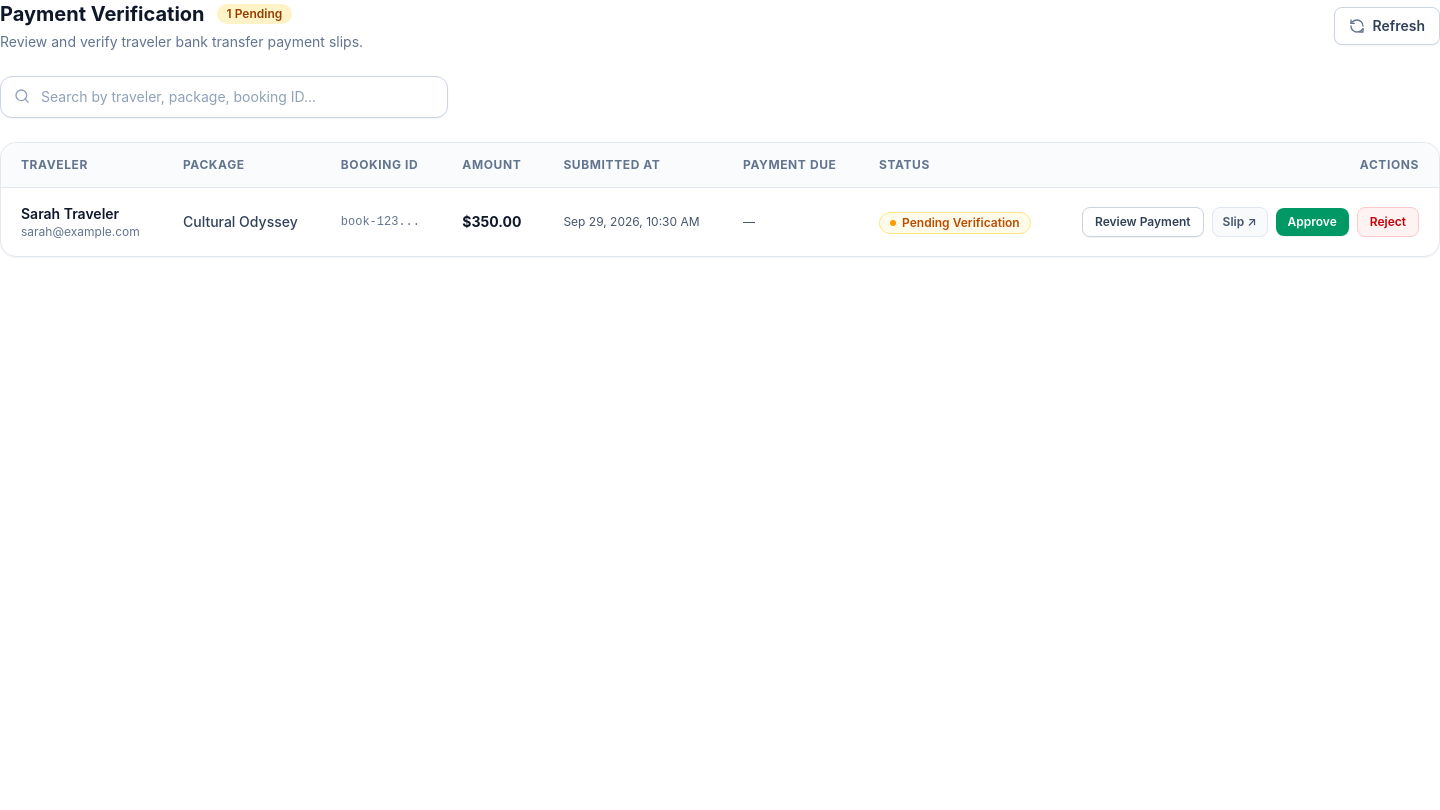
Test: OpsPaymentsPage › removes rejected item and shows success banner
The image size is (1440, 810).
Check: the text "Sarah Traveler" is shown, box x1=21 y1=205 x2=119 y2=222
Click the button "Reject" at (1388, 222), box x1=1357 y1=207 x2=1419 y2=237
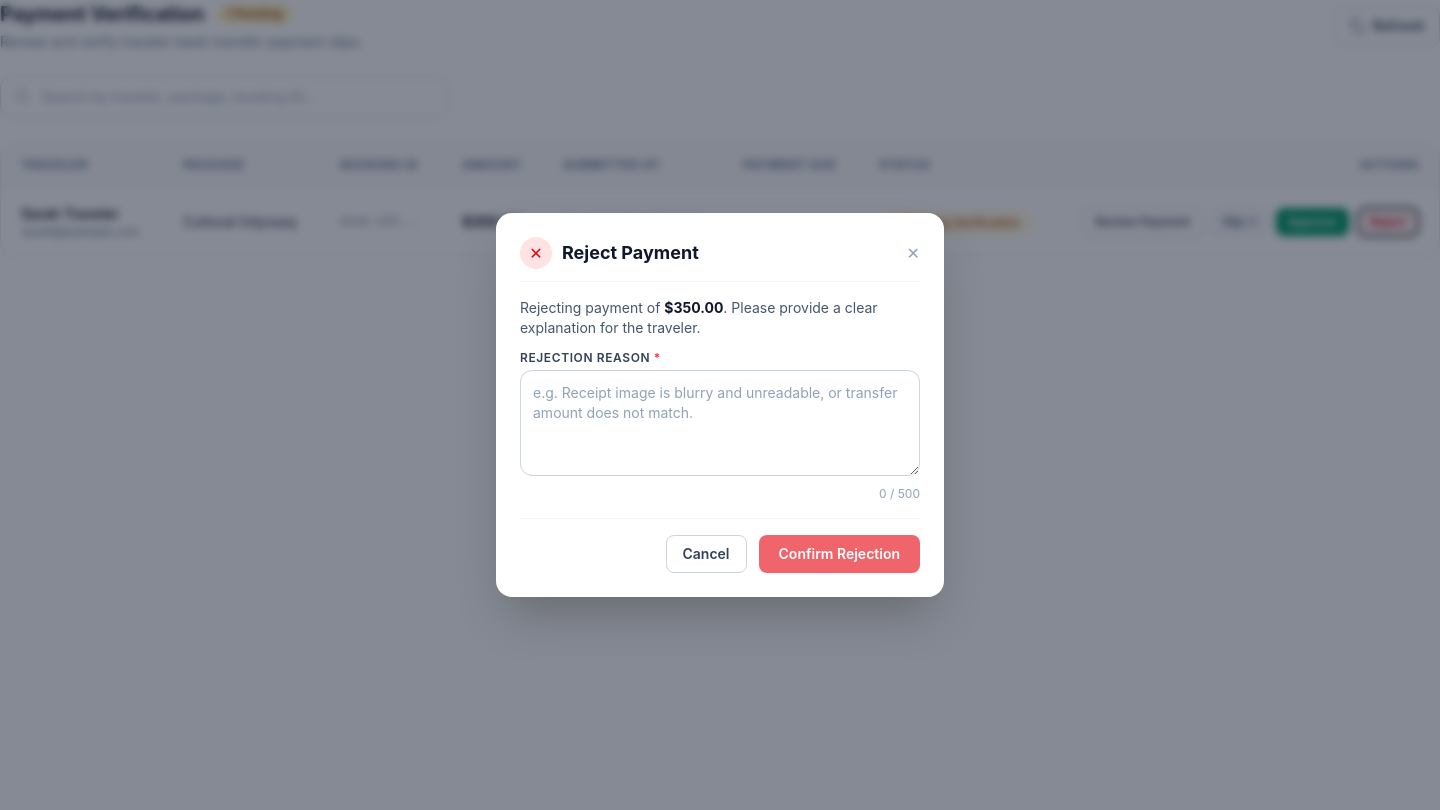
Type "Invalid receipt details." into the text box labelled "Rejection Reason *" at (720, 423), box x1=520 y1=370 x2=920 y2=476
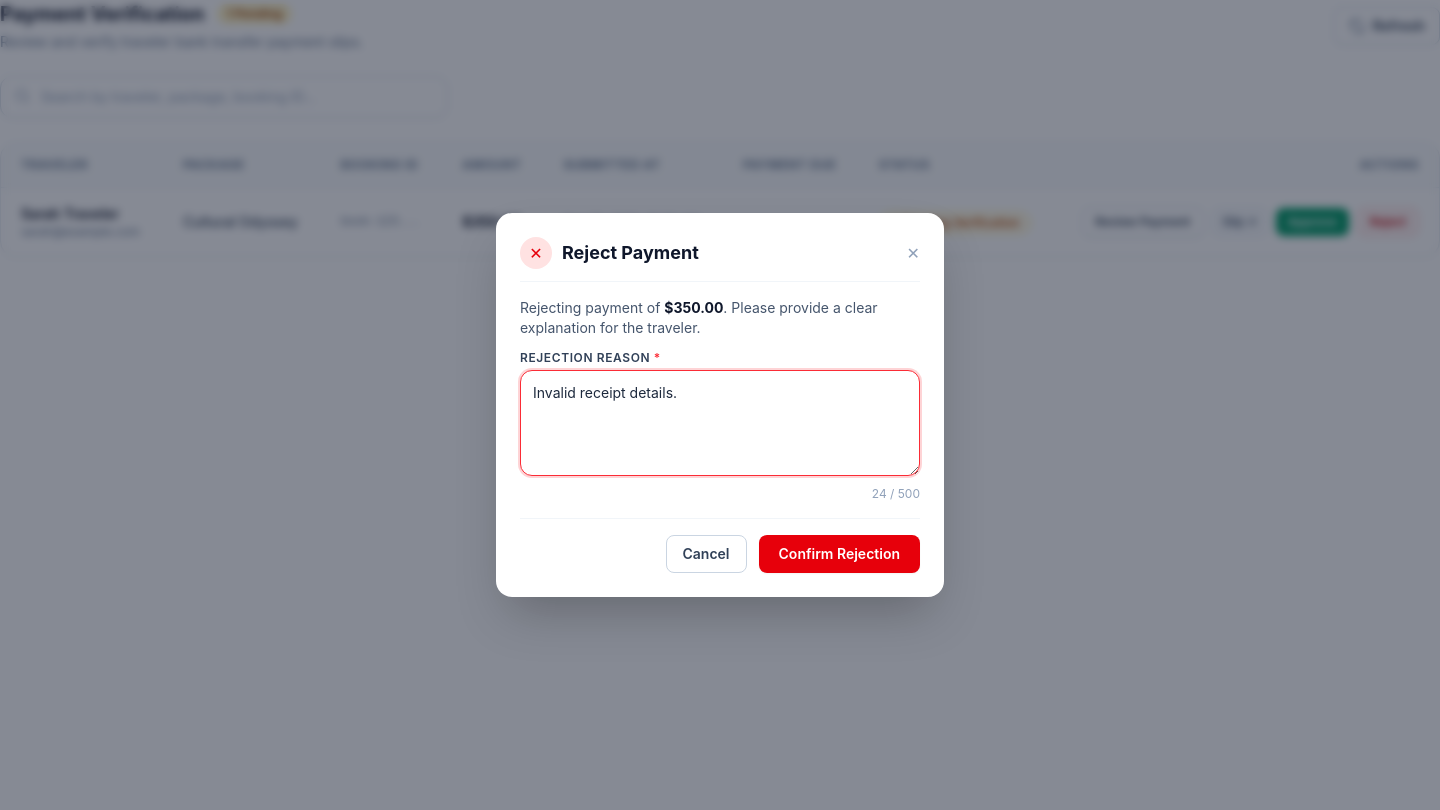
Click the button "Confirm Rejection" at (839, 554), box x1=758 y1=535 x2=920 y2=573
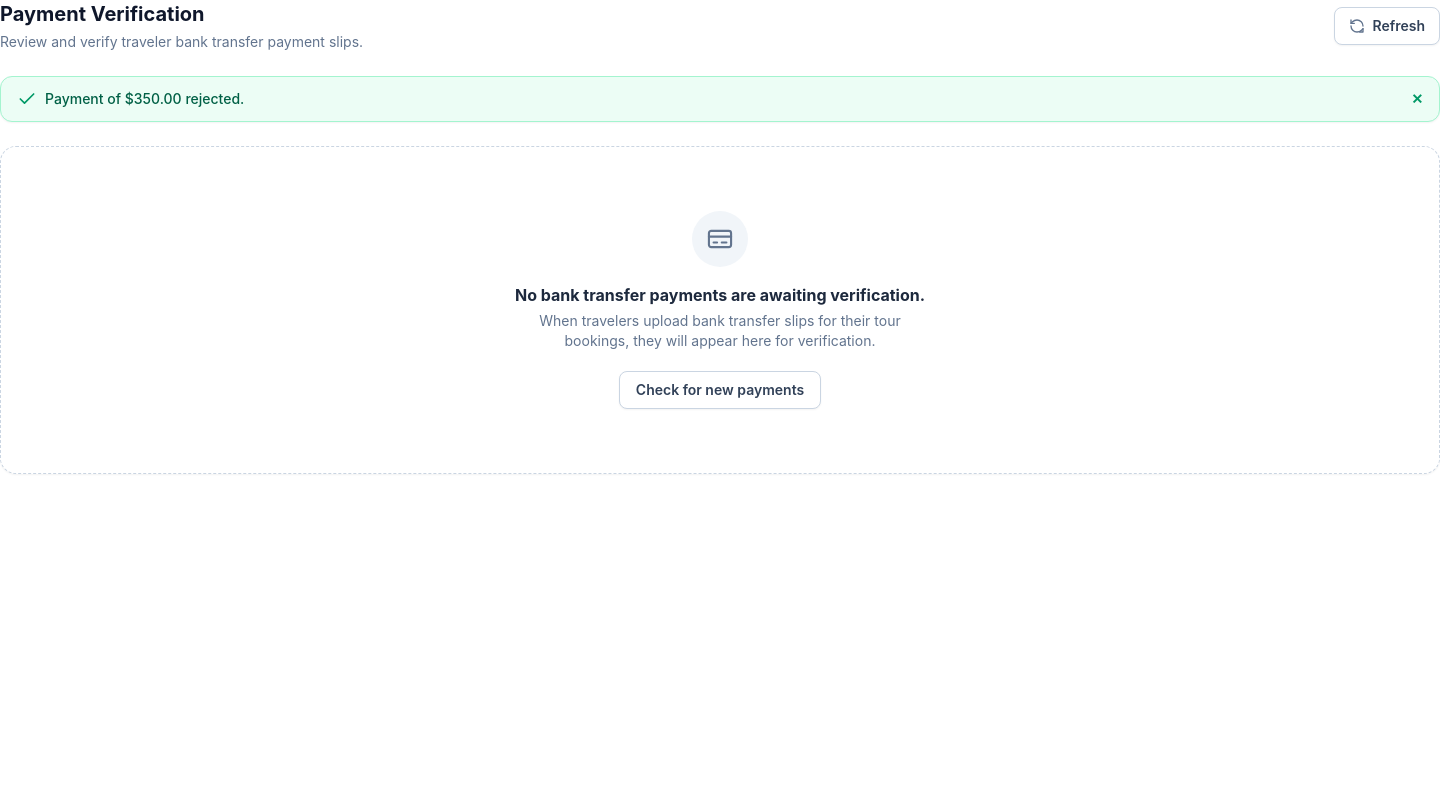
Check: the text "Sarah Traveler" is gone
Check: the text "Payment of $350.00 rejected." is shown, box x1=45 y1=89 x2=244 y2=109
